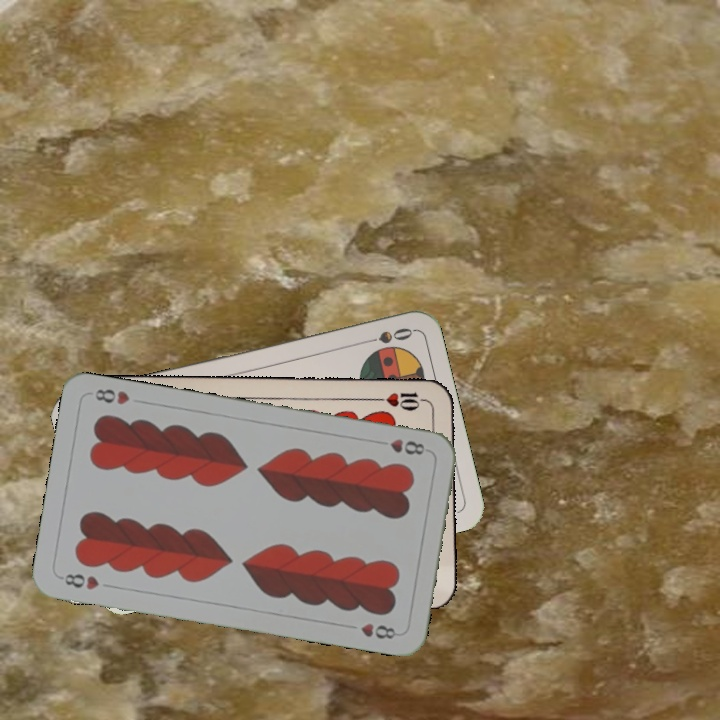H10: (372, 388, 431, 413)
H8: (372, 435, 428, 458), (56, 569, 102, 593)
SO: (356, 324, 415, 348)
